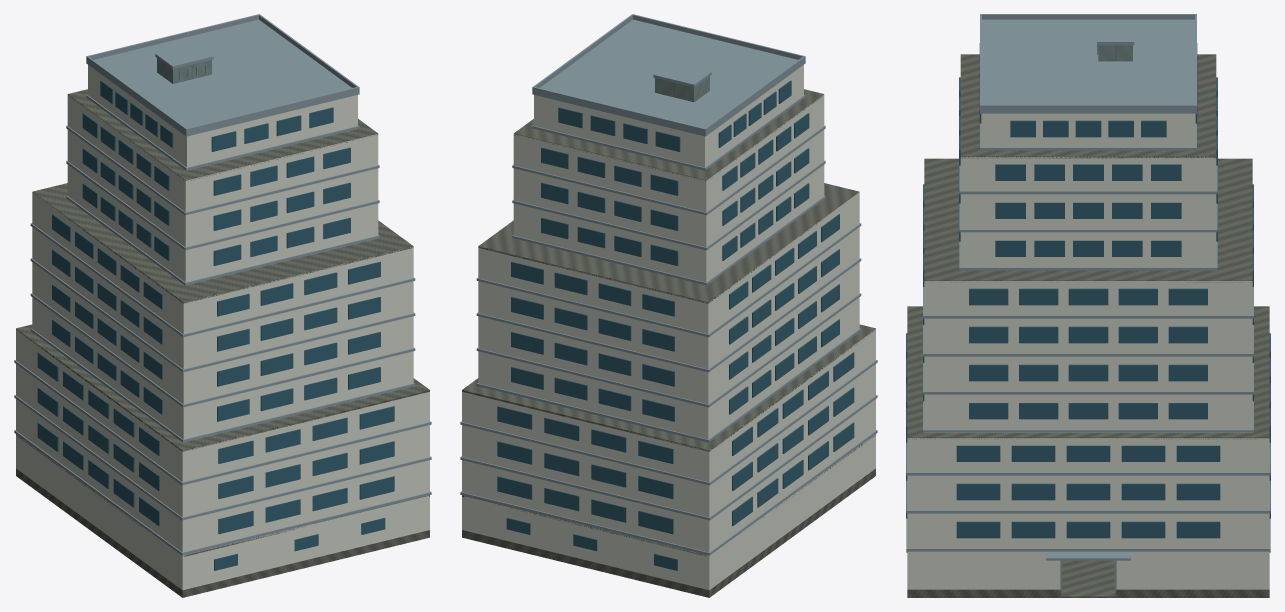
Rendered from Metro_MixedResidence.glb.
The picture shows the model from 3 angles, left to right: view 1: azimuth 30°, elevation 25°; view 2: azimuth 150°, elevation 25°; view 3: azimuth 270°, elevation 25°; orthographic projection. The views are drawn at different scales.
Parts seen in each view (by area): view 1: Metro_MixedResidence_Roof, Metro_MixedResidence_GroundShell, Metro_MixedResidence_Upper1_Shell_F2, Metro_MixedResidence_Upper1_Shell_F1, Metro_MixedResidence_Upper1_Shell_F3, Metro_MixedResidence_Upper2_Shell_F2, Metro_MixedResidence_Upper2_Shell_F3, Metro_MixedResidence_Upper2_Shell_F4, Metro_MixedResidence_Upper2_Shell_F1, Metro_MixedResidence_Upper3_Shell_F2, Metro_MixedResidence_Upper3_Shell_F3, Metro_MixedResidence_Upper3_Shell_F1 (+40 smaller); view 2: Metro_MixedResidence_Roof, Metro_MixedResidence_GroundShell, Metro_MixedResidence_Upper1_Shell_F2, Metro_MixedResidence_Upper1_Shell_F1, Metro_MixedResidence_Upper1_Shell_F3, Metro_MixedResidence_Upper2_Shell_F2, Metro_MixedResidence_Upper2_Shell_F3, Metro_MixedResidence_Upper2_Shell_F4, Metro_MixedResidence_Upper2_Shell_F1, Metro_MixedResidence_Upper3_Shell_F2, Metro_MixedResidence_Upper3_Shell_F3, Metro_MixedResidence_Upper3_Shell_F1 (+40 smaller); view 3: Metro_MixedResidence_Roof, Metro_MixedResidence_TerraceDeck_8, Metro_MixedResidence_GroundShell, Metro_MixedResidence_Upper1_Shell_F1, Metro_MixedResidence_Upper1_Shell_F2, Metro_MixedResidence_Upper1_Shell_F3, Metro_MixedResidence_Upper2_Shell_F2, Metro_MixedResidence_Upper2_Shell_F1, Metro_MixedResidence_Upper2_Shell_F3, Metro_MixedResidence_Upper2_Shell_F4, Metro_MixedResidence_Upper3_Shell_F3, Metro_MixedResidence_Upper3_Shell_F2 (+30 smaller).
Boxes of the visible parts, box(x1,y1,x2,y2) form: Metro_MixedResidence_Roof: box(86, 14, 359, 136); Metro_MixedResidence_GroundShell: box(16, 434, 429, 590); Metro_MixedResidence_Upper1_Shell_F2: box(16, 364, 429, 520); Metro_MixedResidence_Upper1_Shell_F1: box(16, 399, 429, 555); Metro_MixedResidence_Upper1_Shell_F3: box(16, 329, 429, 485); Metro_MixedResidence_Upper2_Shell_F2: box(32, 262, 413, 407); Metro_MixedResidence_Upper2_Shell_F3: box(32, 227, 413, 372); Metro_MixedResidence_Upper2_Shell_F4: box(32, 192, 413, 337); Metro_MixedResidence_Upper2_Shell_F1: box(32, 297, 413, 439); Metro_MixedResidence_Upper3_Shell_F2: box(67, 129, 378, 250); Metro_MixedResidence_Upper3_Shell_F3: box(67, 94, 378, 215); Metro_MixedResidence_Upper3_Shell_F1: box(67, 165, 378, 282); Metro_MixedResidence_Roof: box(532, 14, 805, 136); Metro_MixedResidence_GroundShell: box(462, 434, 875, 590); Metro_MixedResidence_Upper1_Shell_F2: box(462, 364, 875, 520); Metro_MixedResidence_Upper1_Shell_F1: box(462, 399, 875, 555); Metro_MixedResidence_Upper1_Shell_F3: box(462, 329, 875, 485); Metro_MixedResidence_Upper2_Shell_F2: box(478, 262, 859, 407); Metro_MixedResidence_Upper2_Shell_F3: box(478, 227, 859, 372); Metro_MixedResidence_Upper2_Shell_F4: box(478, 192, 859, 337); Metro_MixedResidence_Upper2_Shell_F1: box(478, 297, 859, 439); Metro_MixedResidence_Upper3_Shell_F2: box(513, 129, 824, 250); Metro_MixedResidence_Upper3_Shell_F3: box(513, 94, 824, 215); Metro_MixedResidence_Upper3_Shell_F1: box(513, 165, 824, 282); Metro_MixedResidence_Roof: box(980, 14, 1196, 113); Metro_MixedResidence_TerraceDeck_8: box(924, 158, 1252, 282); Metro_MixedResidence_GroundShell: box(907, 552, 1269, 589); Metro_MixedResidence_Upper1_Shell_F1: box(907, 514, 1269, 552); Metro_MixedResidence_Upper1_Shell_F2: box(907, 476, 1269, 513); Metro_MixedResidence_Upper1_Shell_F3: box(907, 438, 1269, 475); Metro_MixedResidence_Upper2_Shell_F2: box(924, 357, 1252, 395); Metro_MixedResidence_Upper2_Shell_F1: box(924, 395, 1252, 432); Metro_MixedResidence_Upper2_Shell_F3: box(924, 319, 1252, 356); Metro_MixedResidence_Upper2_Shell_F4: box(924, 281, 1252, 318); Metro_MixedResidence_Upper3_Shell_F3: box(960, 156, 1216, 194); Metro_MixedResidence_Upper3_Shell_F2: box(960, 195, 1216, 232).
Bounding box in the file's own units: 25.45 × 41.59 × 28.21.
6 materials, 2 textured.
